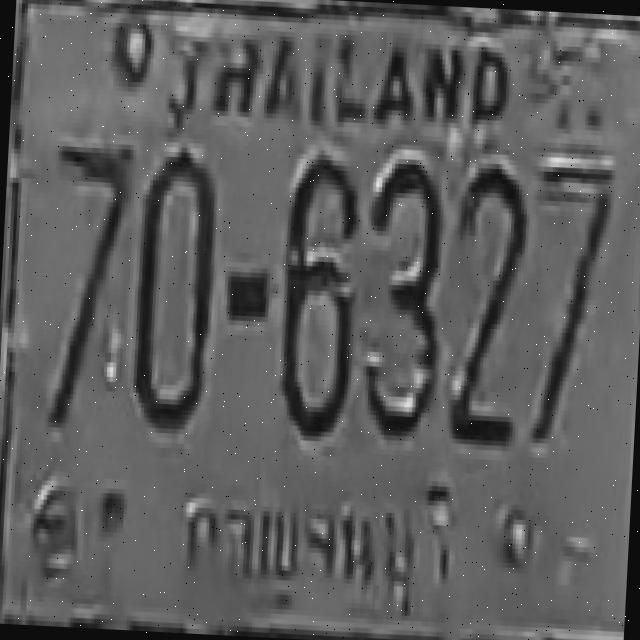0: (130, 144, 218, 428)
2: (444, 160, 528, 444)
3: (359, 156, 445, 436)
6: (274, 149, 360, 433)
7: (44, 136, 132, 426), (527, 157, 613, 441)
Krabi: (168, 474, 468, 624)
